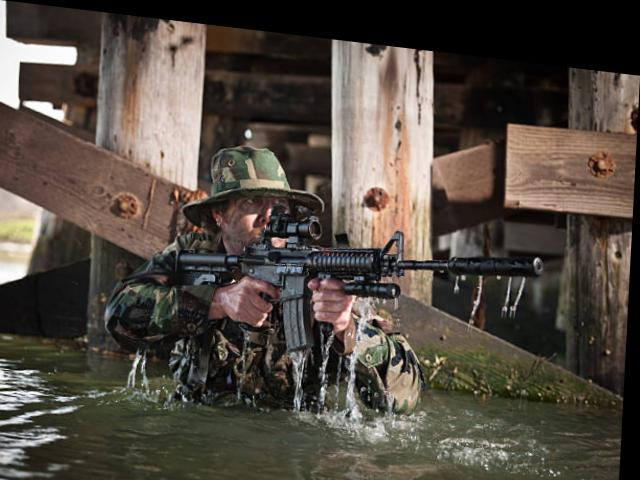other: (165, 130, 373, 400)
